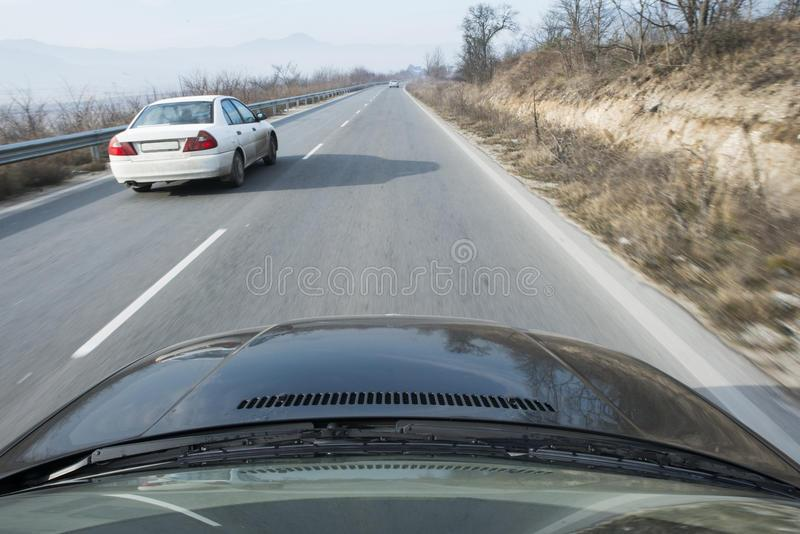car: (0, 285, 800, 534), (79, 55, 303, 205)
